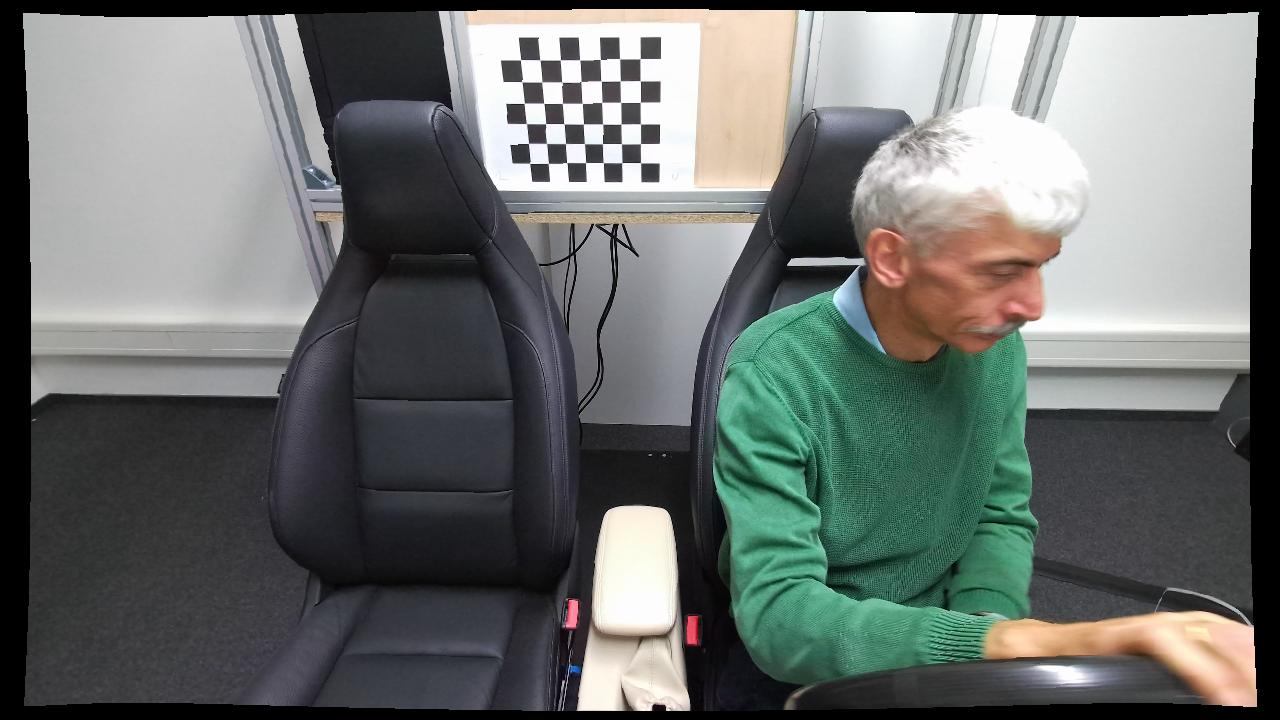Distracted: (696, 98, 1095, 712)
